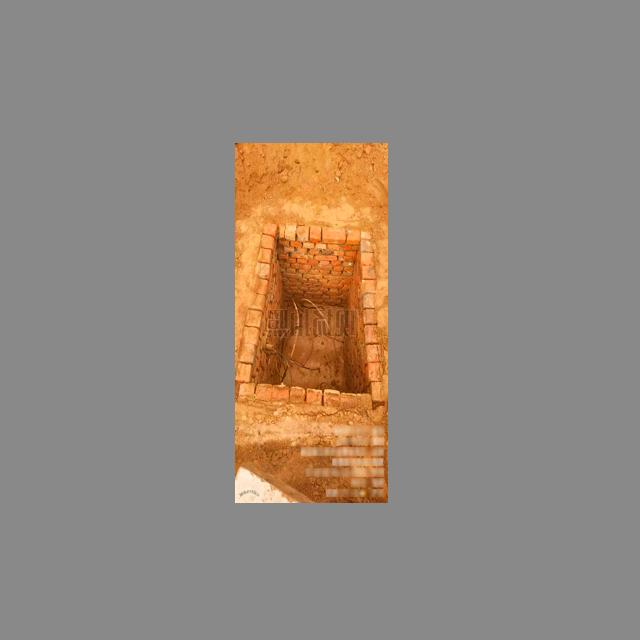lose: (250, 237, 374, 394)
